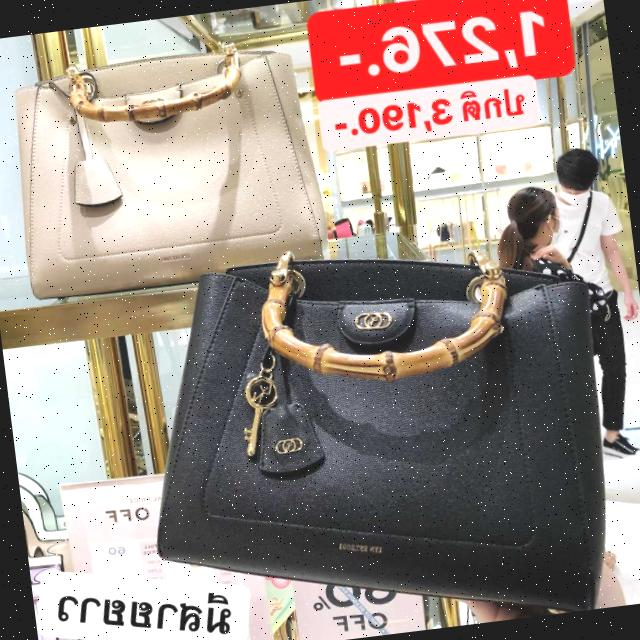handbag: (114, 213, 640, 640)
